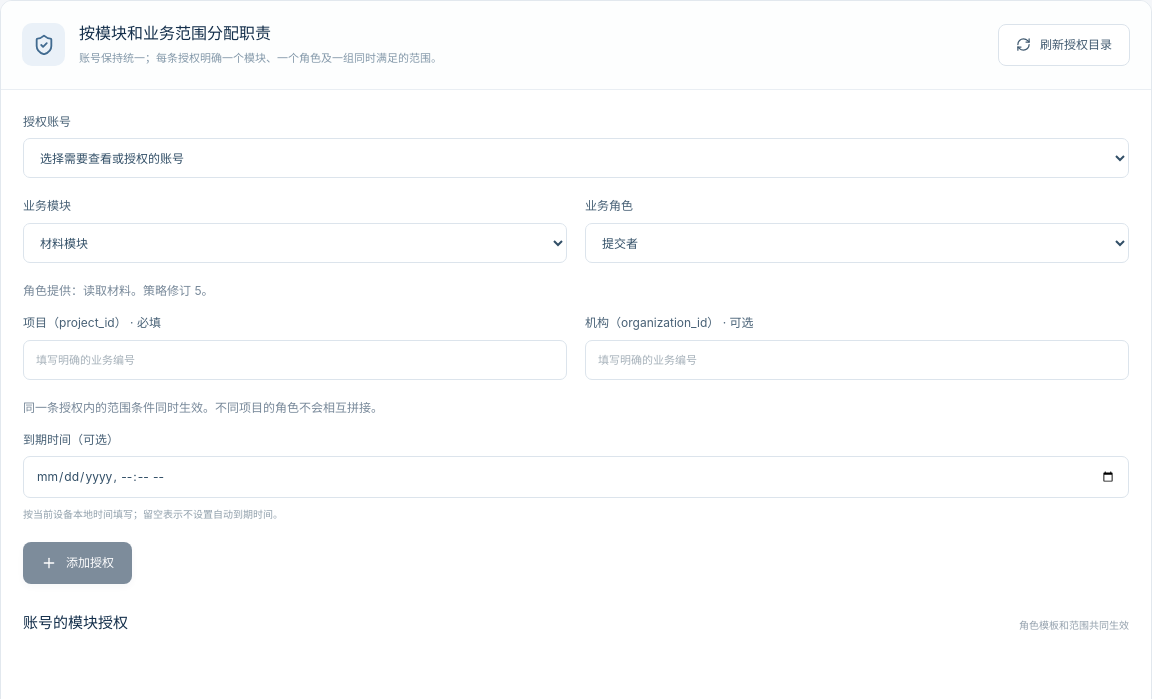
Test case: 模块范围授权管理 › 切换账号立即清除旧列表，较晚返回的旧账号结果不会覆盖当前账号
The image size is (1152, 699).
Step 1. Select "用户甲（alpha）" in the dropdown labelled "授权账号" → [576, 158], box x1=23 y1=138 x2=1129 y2=178
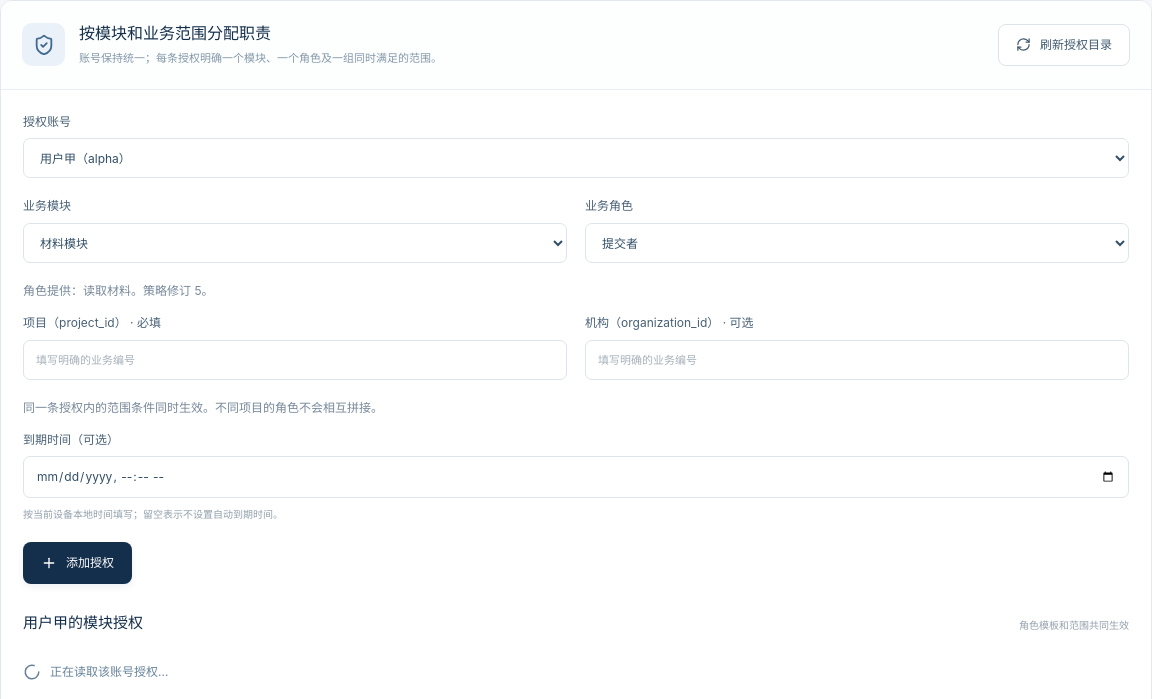
Step 2. Select "用户乙（beta）" in the dropdown labelled "授权账号" → [576, 158], box x1=23 y1=138 x2=1129 y2=178
(page scrolled)
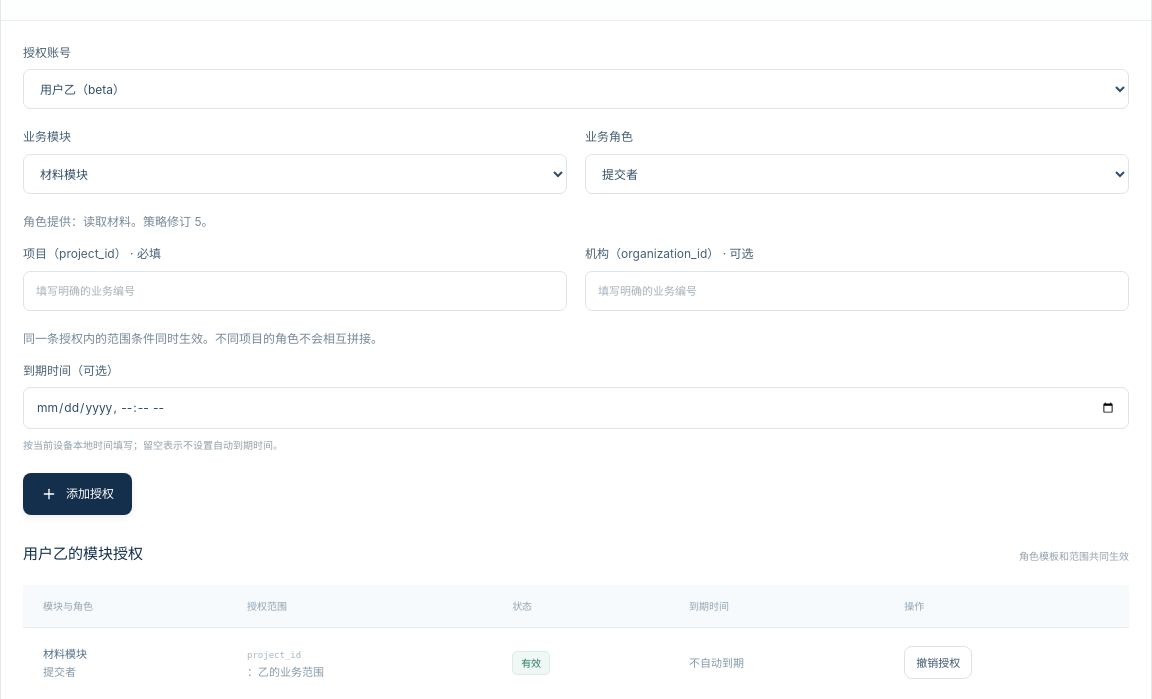
Expected: the text "project_id ：乙的业务范围" is shown, x1=247 y1=650 x2=324 y2=679
